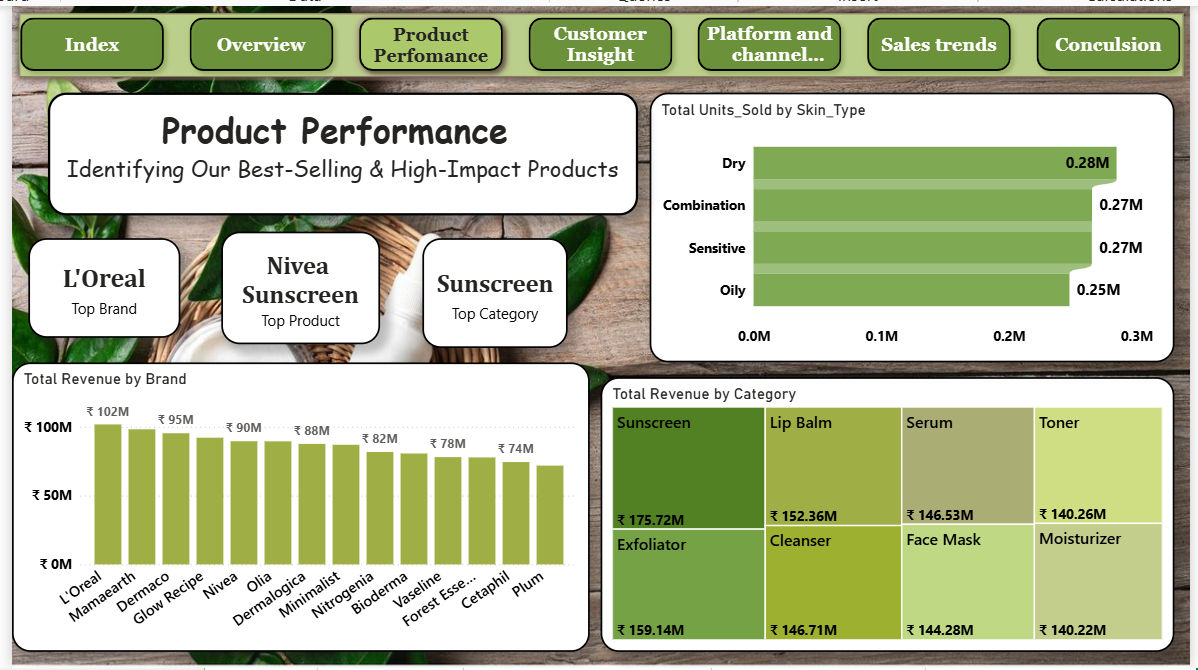

This screenshot's page, from the dashboard's own definition file:
{"tool":"powerbi","page":{"name":"Product Perfomance","canvas":[1280,720],"ordinal":2},"visuals":[{"type":"card","fields":{"Values":["Min(skincare.Brand)"]},"box":[17.8,252.2,165.2,108.3],"z":0},{"type":"card","fields":{"Values":["Min(skincare.Product_Name)"]},"box":[227.3,245.1,172.3,122.5],"z":1000},{"type":"columnChart","fields":{"Category":["skincare.Brand"],"Y":["Sum(skincare.Revenue_INR)"]},"box":[0,387.3,627.3,314.5],"z":2000},{"type":"treemap","fields":{"Group":["skincare.Category"],"Values":["Sum(skincare.Revenue_INR)"]},"box":[639.3,403.1,623.3,298.3],"z":3000},{"type":"barChart","fields":{"Category":["skincare.Skin_Type"],"Y":["Sum(skincare.Units_Sold)"]},"box":[692.6,94.1,570.1,293],"z":4000},{"type":"card","fields":{"Values":["Min(skincare.Category)"]},"box":[445.7,252.2,158.1,119],"z":5000},{"type":"textbox","box":[39.1,94.1,641.1,133.2],"z":6000},{"type":"shape","box":[0,0,1280.4,85],"z":7000},{"type":"pageNavigator","box":[0,3.6,1280.4,76.4],"z":8000}]}

Visuals, with their boxes in screenshot pixels (x1, y1, x2, y2):
card - Min(skincare.Brand): box(26, 235, 177, 334)
card - Min(skincare.Product_Name): box(218, 228, 376, 341)
columnChart - skincare.Brand x Sum(skincare.Revenue_INR): box(9, 359, 586, 648)
treemap - skincare.Category x Sum(skincare.Revenue_INR): box(597, 373, 1169, 648)
barChart - skincare.Skin_Type x Sum(skincare.Units_Sold): box(646, 90, 1169, 359)
card - Min(skincare.Category): box(419, 235, 564, 344)
textbox: box(45, 90, 634, 212)
shape: box(9, 3, 1186, 81)
pageNavigator: box(9, 6, 1186, 77)
